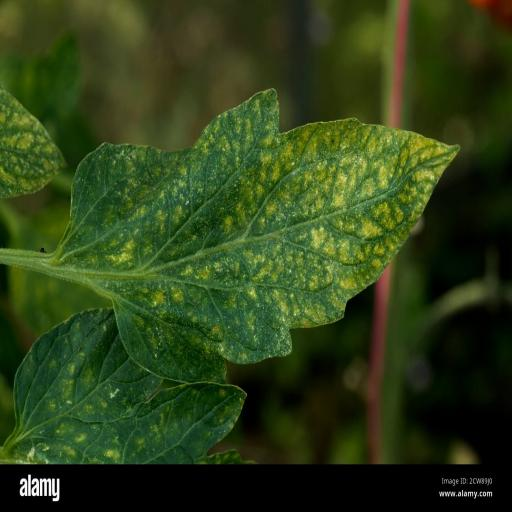disease_tomato: (58, 80, 462, 386)
